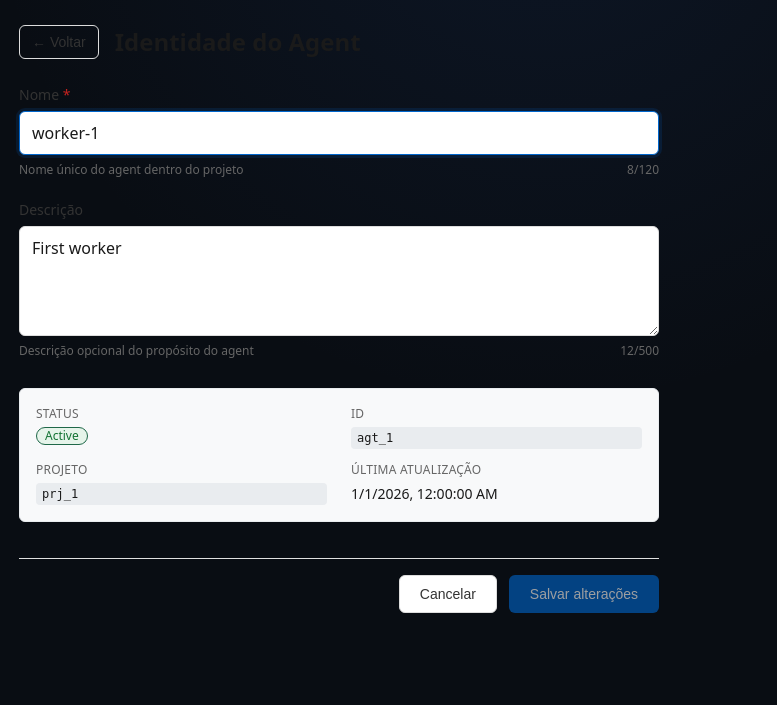
it: AgentIdentityPage › handles archived agent error
The width and height of the screenshot is (777, 705).
Step 1. Replace the text in the field labelled "Nome *" with "updated-name" → x=339, y=133, box top-left (19, 111), bottom-right (659, 155)
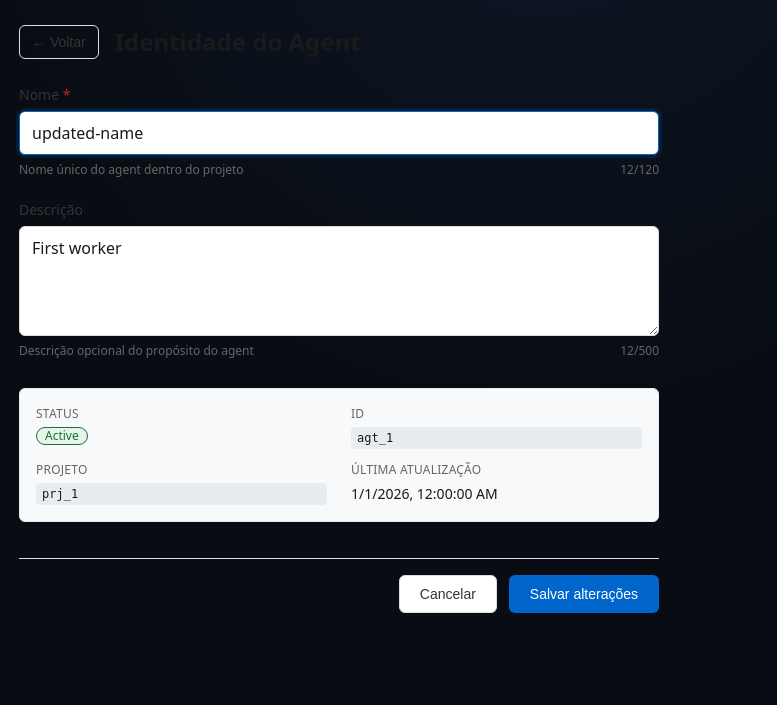
Step 2. Click the button "Salvar alterações" → x=584, y=594, box top-left (509, 575), bottom-right (659, 613)
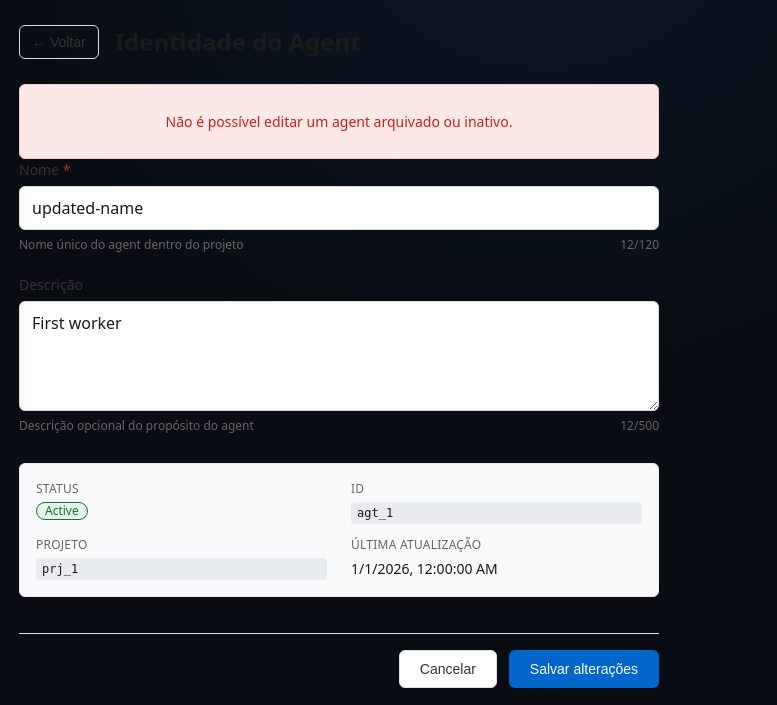
Result: the text "Não é possível editar um agent arquivado ou inativo." is shown at top-left (166, 112), bottom-right (512, 131)
